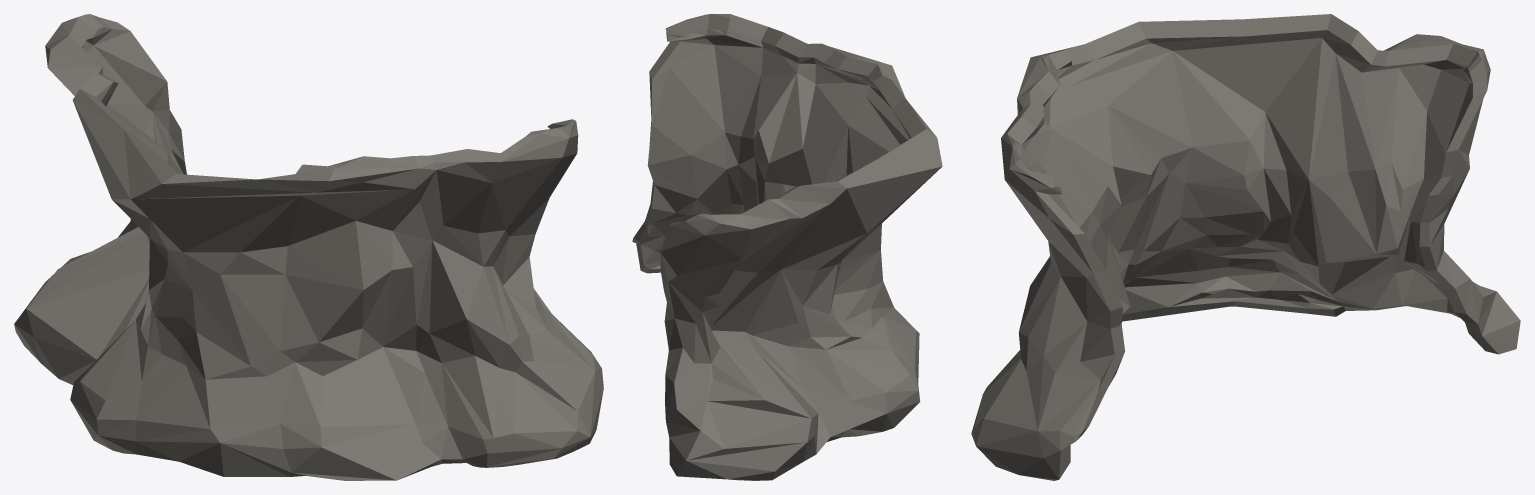
Rendered from SM_Env_Cave_Background_Corner_02_DoubleSided.glb.
The picture shows the model from 3 angles, left to right: view 1: azimuth 30°, elevation 25°; view 2: azimuth 150°, elevation 25°; view 3: azimuth 270°, elevation 25°; orthographic projection. The views are drawn at different scales.
Parts seen in each view (by area): view 1: SM_Env_Cave_Background_Corner_02_DoubleSided; view 2: SM_Env_Cave_Background_Corner_02_DoubleSided; view 3: SM_Env_Cave_Background_Corner_02_DoubleSided.
Boxes of the visible parts, left/top/right/bottom form: SM_Env_Cave_Background_Corner_02_DoubleSided: left=14, top=14, right=603, bottom=480; SM_Env_Cave_Background_Corner_02_DoubleSided: left=632, top=14, right=942, bottom=480; SM_Env_Cave_Background_Corner_02_DoubleSided: left=971, top=14, right=1520, bottom=480.
Size of the model in its own units: 0.3458 by 0.2538 by 0.4079.
Materials: 1 (1 with a texture image).
